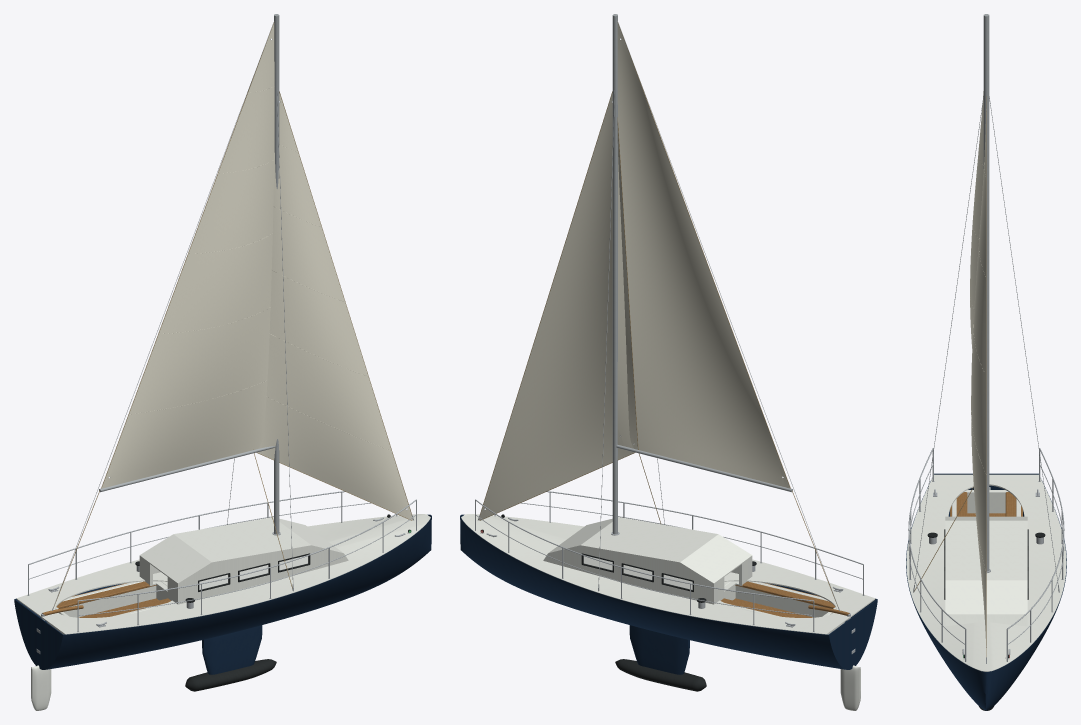
The model's file is sailing-yacht-8m.glb.
3 views of the same model, side by side, from view 1: azimuth 30°, elevation 25°; view 2: azimuth 150°, elevation 25°; view 3: azimuth 270°, elevation 25° (orthographic). The views are drawn at different scales.
Parts seen in each view (by area): view 1: Yacht sloop mainsail finite cambered cloth with punched eyel, Yacht sloop foresail finite cambered cloth with punched eyel, Yacht exact8m finite hull, Yacht sheer-following deck with real aft cockpit opening, Yacht hollow raised cabin with six real windows and companio, Yacht swept finite fin keel, Yacht sloop finite aluminium mast, Yacht cockpit inner side1, Yacht shaped ballast bulb, Yacht finite transom rudder blade, Yacht cockpit teak bench1, Yacht sloop attached boom (+1 smaller); view 2: Yacht sloop mainsail finite cambered cloth with punched eyel, Yacht sloop foresail finite cambered cloth with punched eyel, Yacht exact8m finite hull, Yacht sheer-following deck with real aft cockpit opening, Yacht hollow raised cabin with six real windows and companio, Yacht sloop finite aluminium mast, Yacht swept finite fin keel, Yacht cockpit inner side-1, Yacht shaped ballast bulb, Yacht finite transom rudder blade, Yacht cockpit teak bench-1, Yacht sloop attached boom (+1 smaller); view 3: Yacht sheer-following deck with real aft cockpit opening, Yacht hollow raised cabin with six real windows and companio, Yacht sloop foresail finite cambered cloth with punched eyel, Yacht exact8m finite hull, Yacht sloop finite aluminium mast, Yacht sloop mainsail finite cambered cloth with punched eyel, Yacht cockpit end wall-3470, Yacht sloop foresail attached luff boltrope, Yacht sloop tensioned shroud 1, Yacht sloop tensioned shroud 2, Yacht lifeline rail1 continuous handrail, Yacht lifeline rail-1 continuous handrail (+2 smaller).
Part boxes in pixels (x1,y1,x2,y2): Yacht sloop mainsail finite cambered cloth with punched eyel: [101, 23, 274, 488]; Yacht sloop foresail finite cambered cloth with punched eyel: [257, 93, 412, 520]; Yacht exact8m finite hull: [14, 514, 431, 669]; Yacht sheer-following deck with real aft cockpit opening: [16, 514, 430, 634]; Yacht hollow raised cabin with six real windows and companio: [139, 517, 348, 604]; Yacht swept finite fin keel: [202, 625, 262, 674]; Yacht sloop finite aluminium mast: [274, 14, 279, 534]; Yacht cockpit inner side1: [63, 581, 156, 617]; Yacht shaped ballast bulb: [185, 659, 276, 691]; Yacht finite transom rudder blade: [31, 665, 51, 710]; Yacht cockpit teak bench1: [57, 581, 156, 608]; Yacht sloop attached boom: [99, 446, 275, 492]; Yacht sloop mainsail finite cambered cloth with punched eyel: [617, 23, 790, 488]; Yacht sloop foresail finite cambered cloth with punched eyel: [479, 93, 637, 520]; Yacht exact8m finite hull: [460, 514, 877, 669]; Yacht sheer-following deck with real aft cockpit opening: [461, 514, 875, 634]; Yacht hollow raised cabin with six real windows and companio: [543, 517, 752, 604]; Yacht sloop finite aluminium mast: [612, 14, 617, 534]; Yacht swept finite fin keel: [629, 625, 689, 674]; Yacht cockpit inner side-1: [735, 581, 828, 617]; Yacht shaped ballast bulb: [615, 659, 706, 691]; Yacht finite transom rudder blade: [840, 665, 860, 710]; Yacht cockpit teak bench-1: [735, 581, 834, 608]; Yacht sloop attached boom: [616, 445, 792, 492]; Yacht sheer-following deck with real aft cockpit opening: [906, 474, 1066, 671]; Yacht hollow raised cabin with six real windows and companio: [945, 516, 1027, 626]; Yacht sloop foresail finite cambered cloth with punched eyel: [971, 111, 986, 645]; Yacht exact8m finite hull: [906, 473, 1066, 710]; Yacht sloop finite aluminium mast: [983, 14, 989, 571]; Yacht sloop mainsail finite cambered cloth with punched eyel: [970, 91, 983, 348]; Yacht cockpit end wall-3470: [964, 490, 1008, 513]; Yacht sloop foresail attached luff boltrope: [986, 96, 986, 656]; Yacht sloop tensioned shroud 1: [914, 96, 983, 585]; Yacht sloop tensioned shroud 2: [989, 96, 1058, 585]; Yacht lifeline rail1 continuous handrail: [1007, 448, 1064, 628]; Yacht lifeline rail-1 continuous handrail: [908, 448, 965, 628].
Size of the model in its own units: 8.14 by 12.76 by 2.65.
13 materials, 13 textured.
